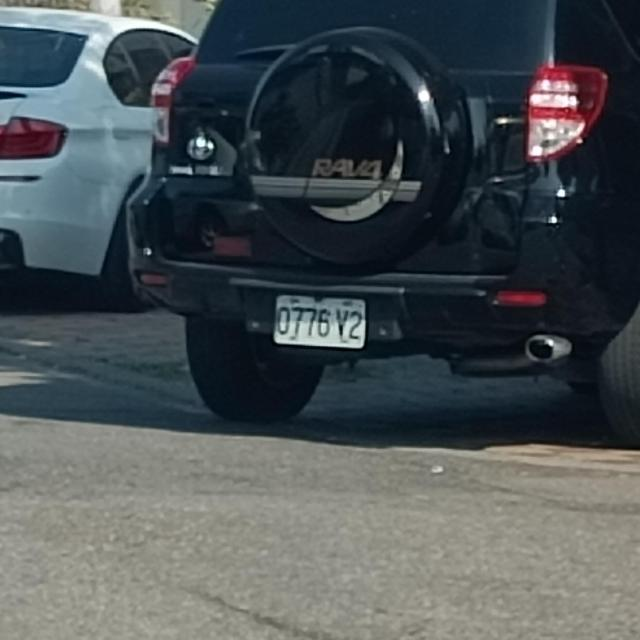W: (272, 290, 369, 351)
